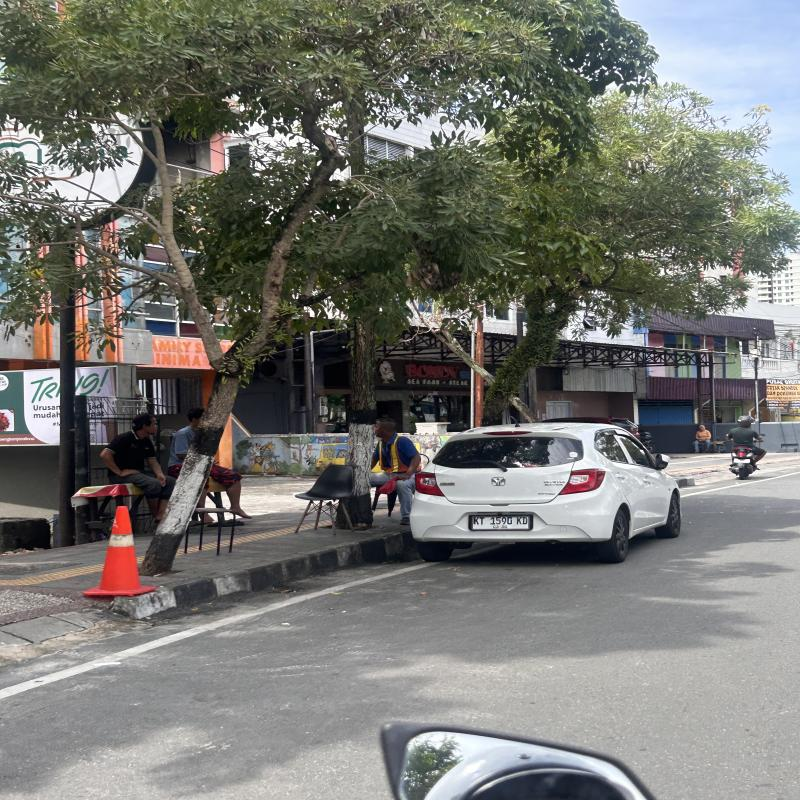license plate on a car: (472, 516, 530, 529)
